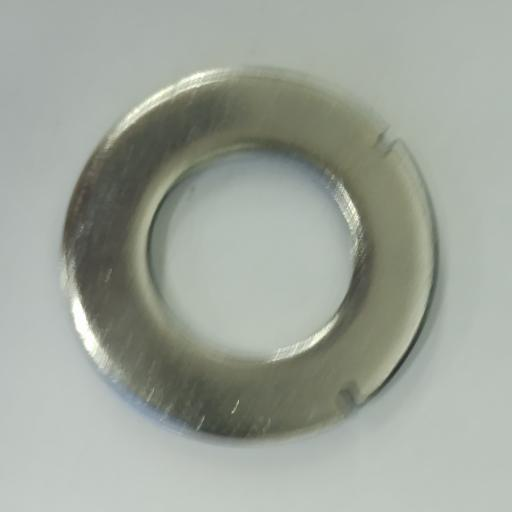burr: (372, 124, 401, 161), (333, 388, 358, 419)
